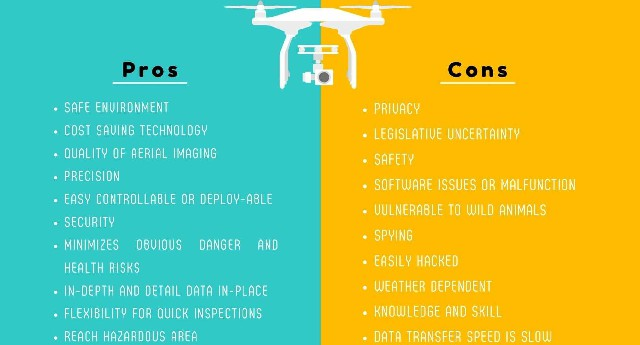maybay_khongnguoilai: (230, 1, 405, 92)
